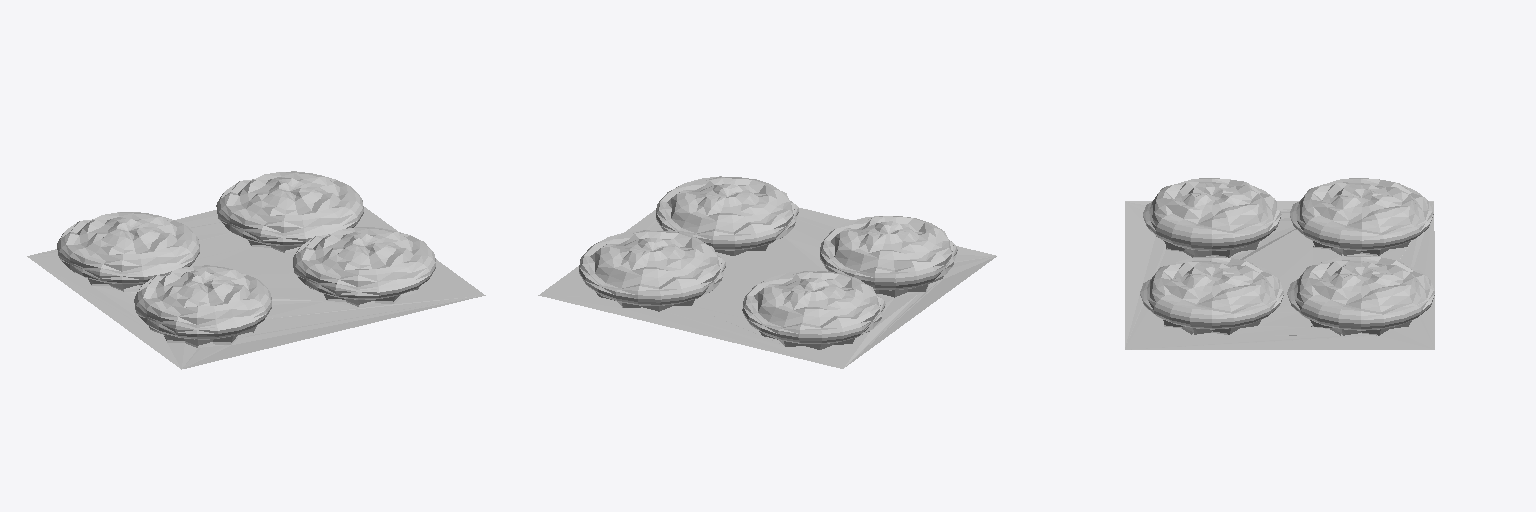
The model's file is wrap.obj.
The picture shows the model from 3 angles: view 1: azimuth 30°, elevation 25°; view 2: azimuth 150°, elevation 25°; view 3: azimuth 270°, elevation 25°; orthographic projection.
Parts seen in each view (by area): view 1: polySurface34 group32; view 2: polySurface34 group32; view 3: polySurface34 group32.
Part boxes in pixels (x1,y1,x2,y2): polySurface34 group32: (27, 171, 485, 369); polySurface34 group32: (538, 176, 996, 368); polySurface34 group32: (1125, 178, 1434, 349).
Size of the model in its own units: 3.64 by 0.5214 by 3.22.